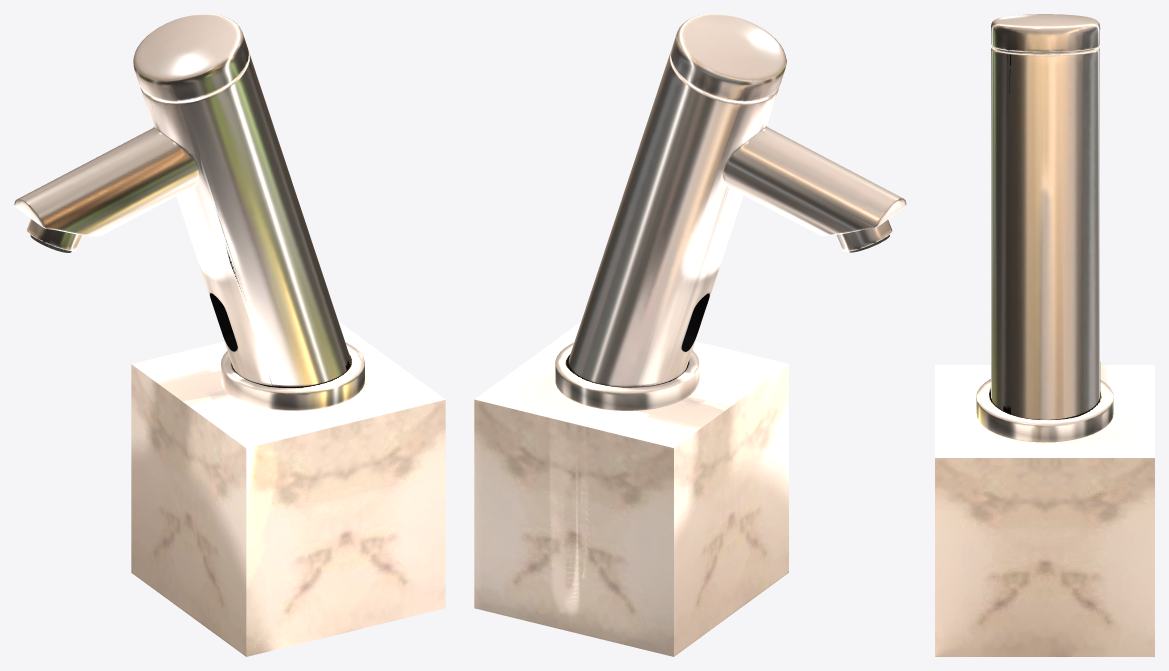
The model's file is F240005_sensor_tap_Immacula.glb.
The picture shows the model from 3 angles, left to right: view 1: azimuth 30°, elevation 25°; view 2: azimuth 150°, elevation 25°; view 3: azimuth 270°, elevation 25°; orthographic projection. The views are drawn at different scales.
Parts seen in each view (by area): view 1: F240005_sensor_tap_Immacula; view 2: F240005_sensor_tap_Immacula; view 3: F240005_sensor_tap_Immacula.
Boxes of the visible parts, box(x1,y1,x2,y2) form: F240005_sensor_tap_Immacula: box(14, 14, 445, 656); F240005_sensor_tap_Immacula: box(474, 14, 906, 656); F240005_sensor_tap_Immacula: box(935, 14, 1154, 656).
Bounding box in the file's own units: 0.1822 × 0.2796 × 0.1.
1 material, 1 textured.
